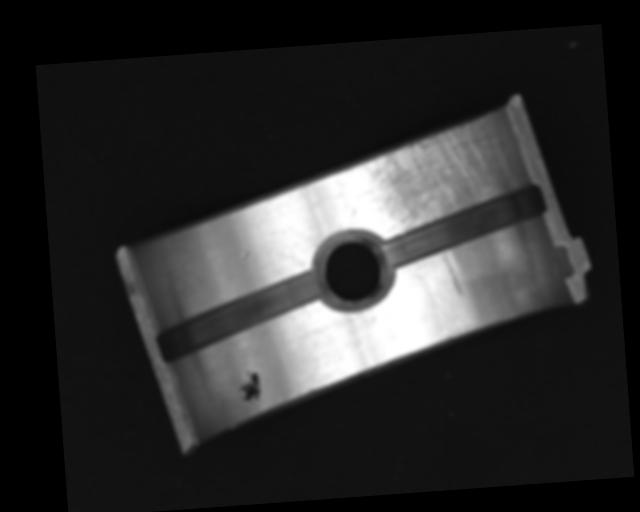blot: (234, 369, 263, 408)
bruise: (238, 250, 252, 259)
gap: (152, 268, 331, 365), (378, 182, 549, 270)
hole: (311, 228, 395, 309)
nick: (441, 248, 465, 298), (290, 224, 322, 250)
scratch: (350, 108, 518, 236)
